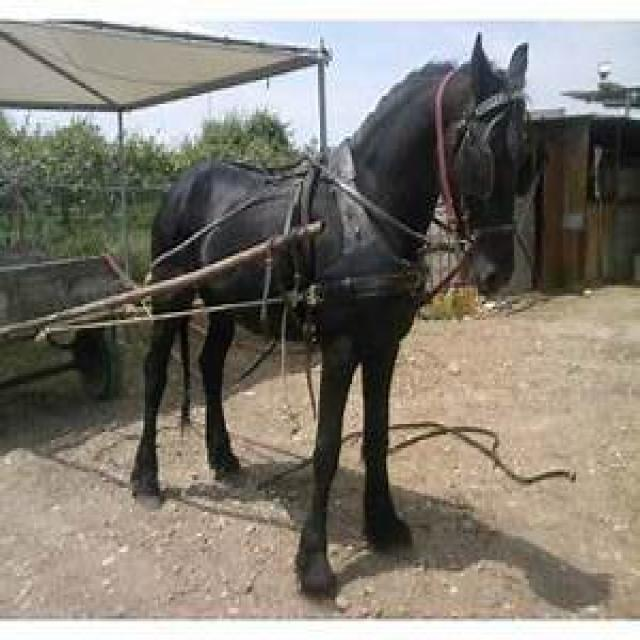animal: (128, 30, 533, 598)
